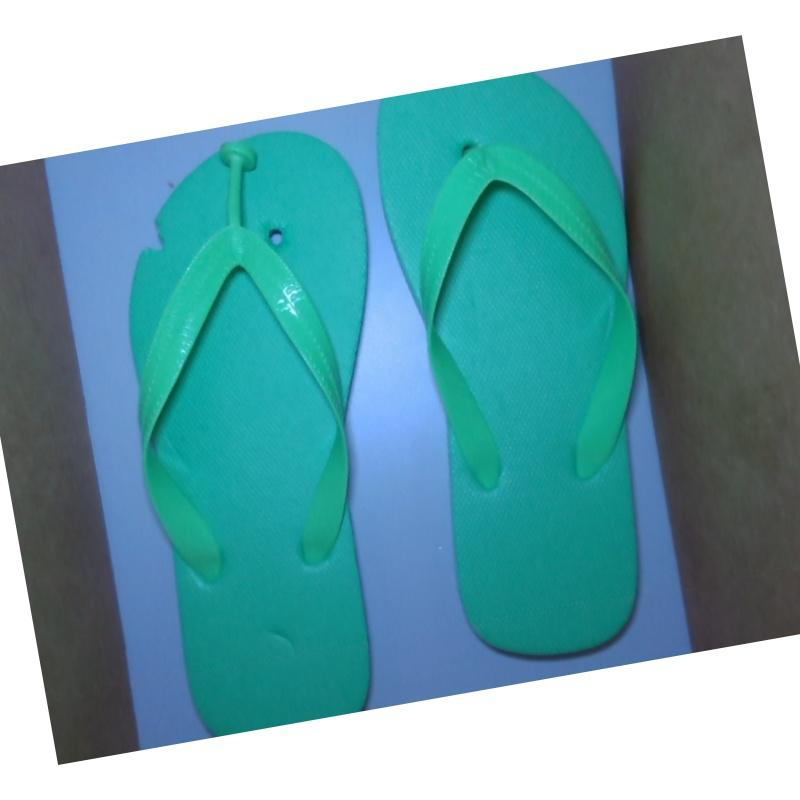chipped: (129, 200, 177, 275)
detached: (210, 135, 268, 214)
